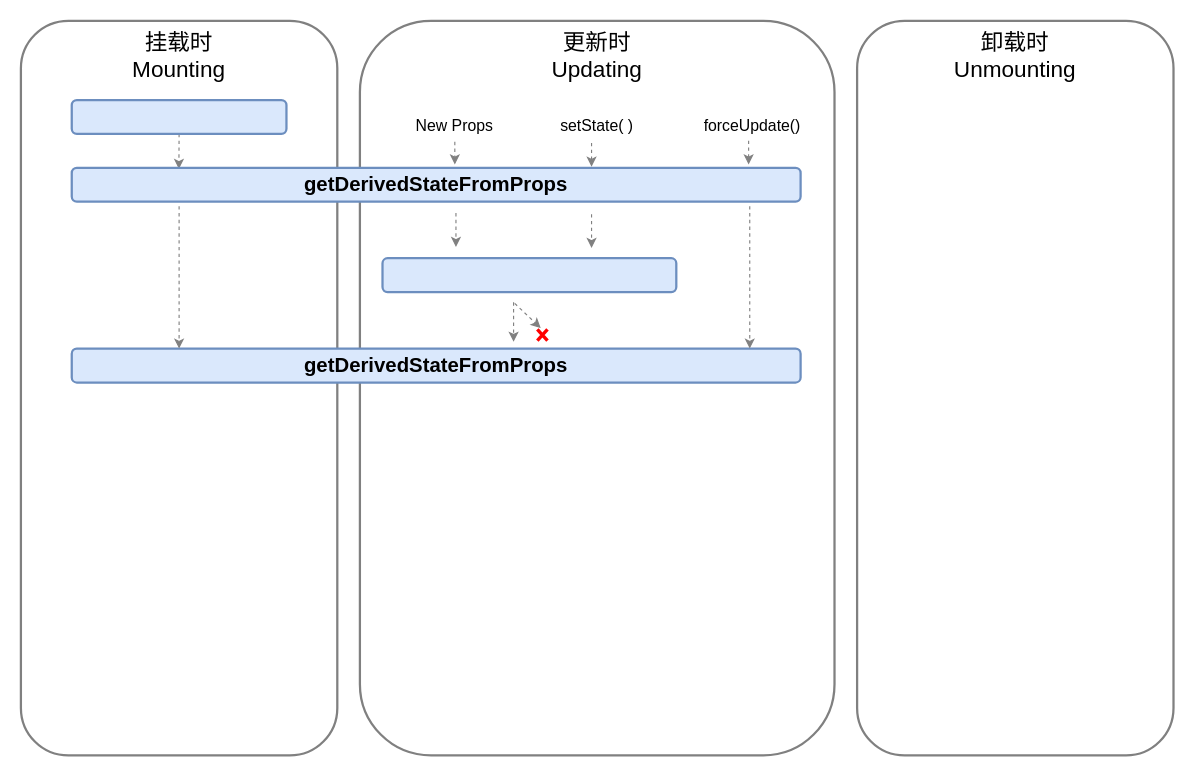
The diagram is 1193 pixels wide and 775 high, and some of its shapes have lost their labels. The centre of each missing label's shape, as x and y in pixels:
constructor: the point at 178,116
shouldComponentUpdate: the point at 529,275
